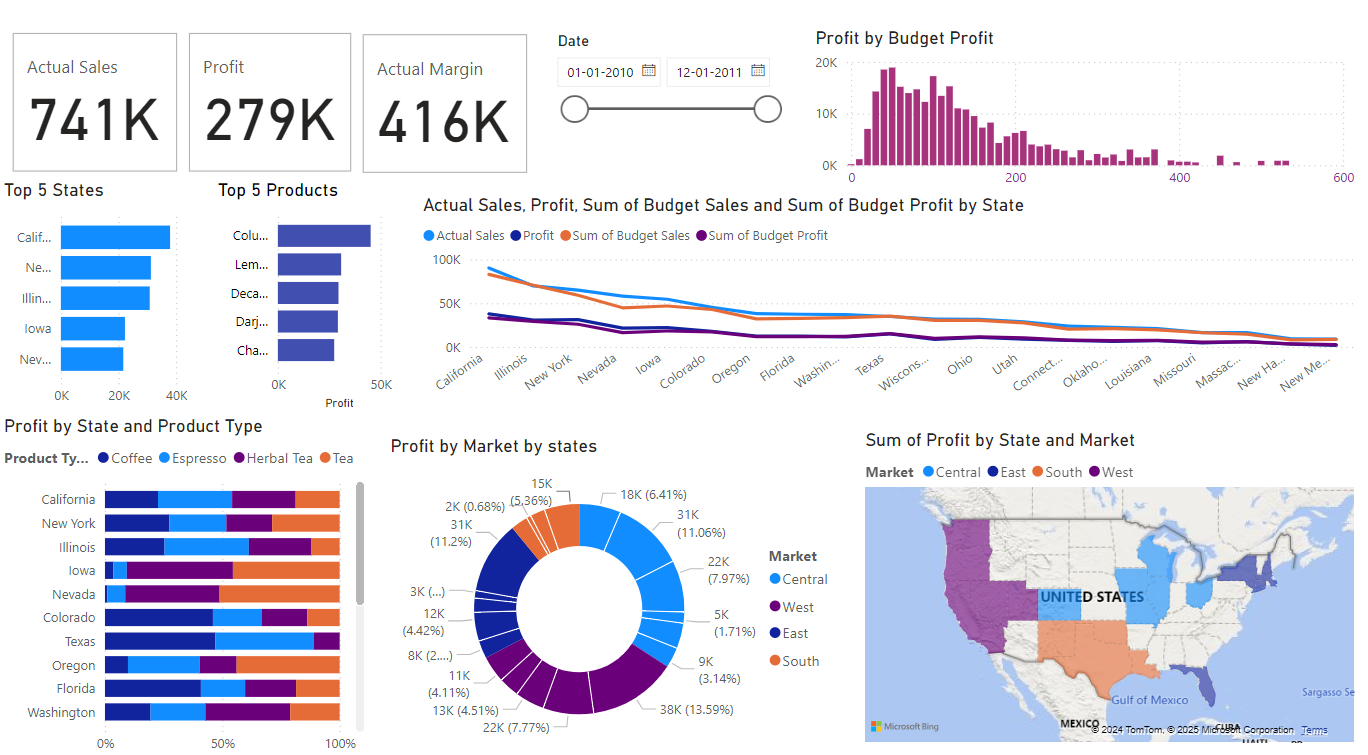

The page's visual inventory and layout, read from the dashboard file:
{"tool":"powerbi","page":{"name":"Page 1","canvas":[1280,720],"ordinal":0},"visuals":[{"type":"cardVisual","fields":{"Data":["BaseMeasures.Actual Sales"]},"box":[12.5,1.2,163.8,140],"z":0},{"type":"cardVisual","fields":{"Data":["BaseMeasures.Profit"]},"box":[176.2,1.2,155,140],"z":1000},{"type":"cardVisual","fields":{"Data":["BaseMeasures.Actual Margin"]},"box":[332.5,0,136.2,141.2],"z":2000},{"type":"hundredPercentStackedBarChart","fields":{"Category":["United_Sales.State","United_Sales.Market Size"],"Series":["United_Sales.Product Type"],"Y":["BaseMeasures.Profit"]},"box":[0,378.8,345,323.8],"z":3000},{"type":"donutChart","title":"Profit by Market by states","fields":{"Y":["BaseMeasures.Profit"],"Series":["United_Sales.State"],"Category":["United_Sales.Market"]},"box":[401.2,397.5,426.2,305],"z":4000},{"type":"filledMap","fields":{"Category":["United_Sales.State"],"Series":["United_Sales.Market"]},"box":[838.4,406.2,429.5,296.4],"z":5000},{"type":"lineChart","fields":{"Category":["United_Sales.State"],"Y":["BaseMeasures.Actual Sales","BaseMeasures.Profit","Sum(United_Sales.Budget Sales)","Sum(United_Sales.Budget Profit)"]},"box":[392.5,191.2,876.2,197.5],"z":6000},{"type":"columnChart","fields":{"Category":["United_Sales.Budget Profit"],"Y":["BaseMeasures.Profit"]},"box":[827.5,1.2,452.5,175],"z":7000},{"type":"slicer","fields":{"Values":["United_Sales.Date"]},"box":[468.8,1.2,358.8,151.2],"z":8000},{"type":"barChart","title":"Top 5 States","fields":{"Category":["United_Sales.State"],"Y":["BaseMeasures.Profit"]},"box":[12.5,141.2,180,218.8],"z":10000},{"type":"barChart","title":"Top 5 Products","fields":{"Category":["United_Sales.Product"],"Y":["BaseMeasures.Profit"]},"box":[202.5,141.2,190,218.8],"z":10001}]}

Visuals, with their boxes in screenshot pixels (x1, y1, x2, y2), scaled from the page's 1280x720 canvas onto the 1368x755 screenshot:
cardVisual - BaseMeasures.Actual Sales: locate(13, 1, 188, 148)
cardVisual - BaseMeasures.Profit: locate(188, 1, 354, 148)
cardVisual - BaseMeasures.Actual Margin: locate(355, 0, 501, 148)
hundredPercentStackedBarChart - United_Sales.State x United_Sales.Market Size: locate(0, 397, 369, 737)
"Profit by Market by states" donutChart: locate(429, 417, 884, 737)
filledMap - United_Sales.State x United_Sales.Market: locate(896, 426, 1355, 737)
lineChart - United_Sales.State x BaseMeasures.Actual Sales: locate(419, 200, 1356, 408)
columnChart - United_Sales.Budget Profit x BaseMeasures.Profit: locate(884, 1, 1367, 185)
slicer - United_Sales.Date: locate(501, 1, 884, 160)
"Top 5 States" barChart: locate(13, 148, 206, 378)
"Top 5 Products" barChart: locate(216, 148, 419, 378)
